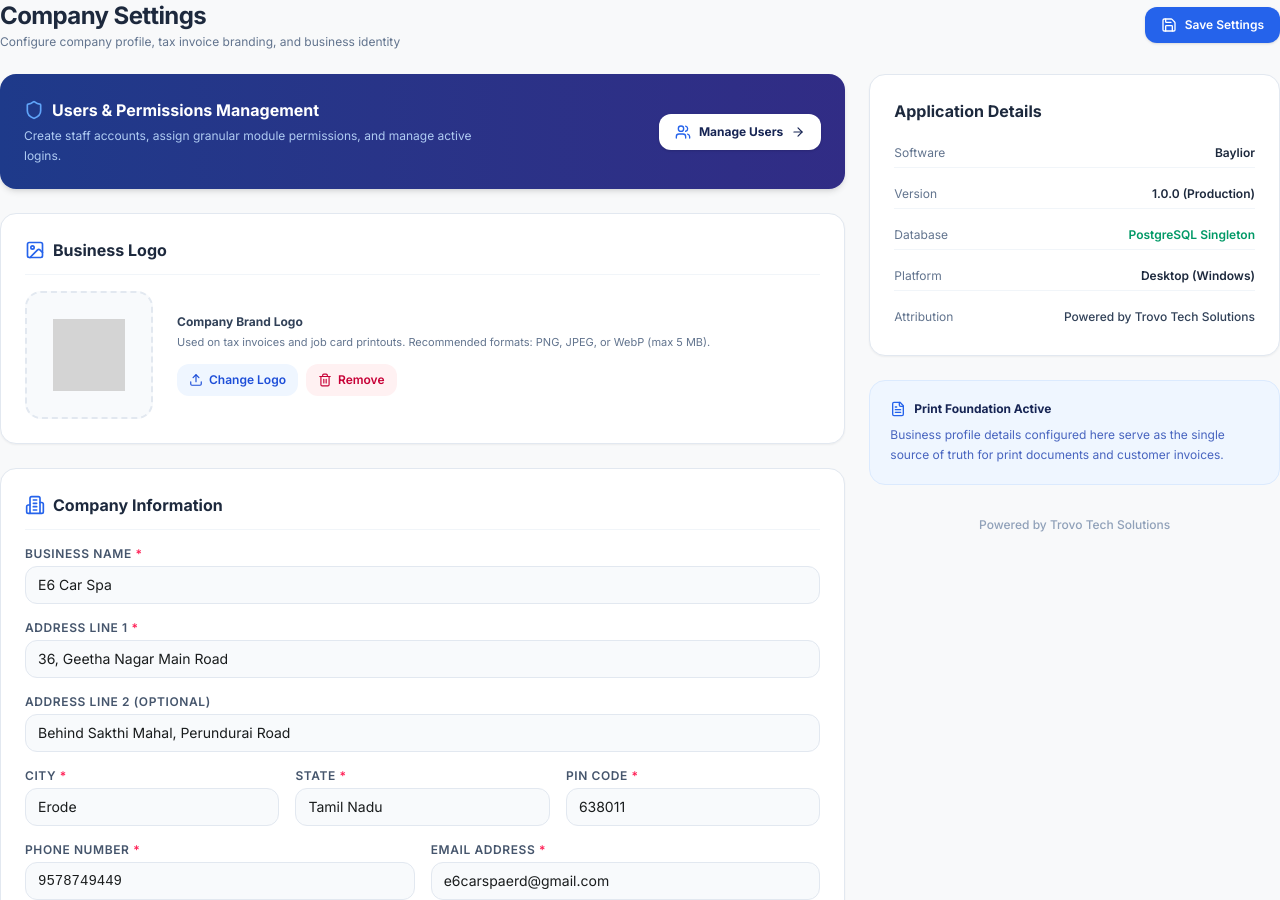
Test case: SettingsPage Component & Business Profile Boundary › submits updated company profile successfully and shows confirmation
The width and height of the screenshot is (1280, 900).
Expected: the field showing "E6 Car Spa" below "Business Name" is shown, [25,566,820,604]
Replace the text in the field showing "Erode" below "City" with "Coimbatore" at (152, 807), box [25,788,279,826]
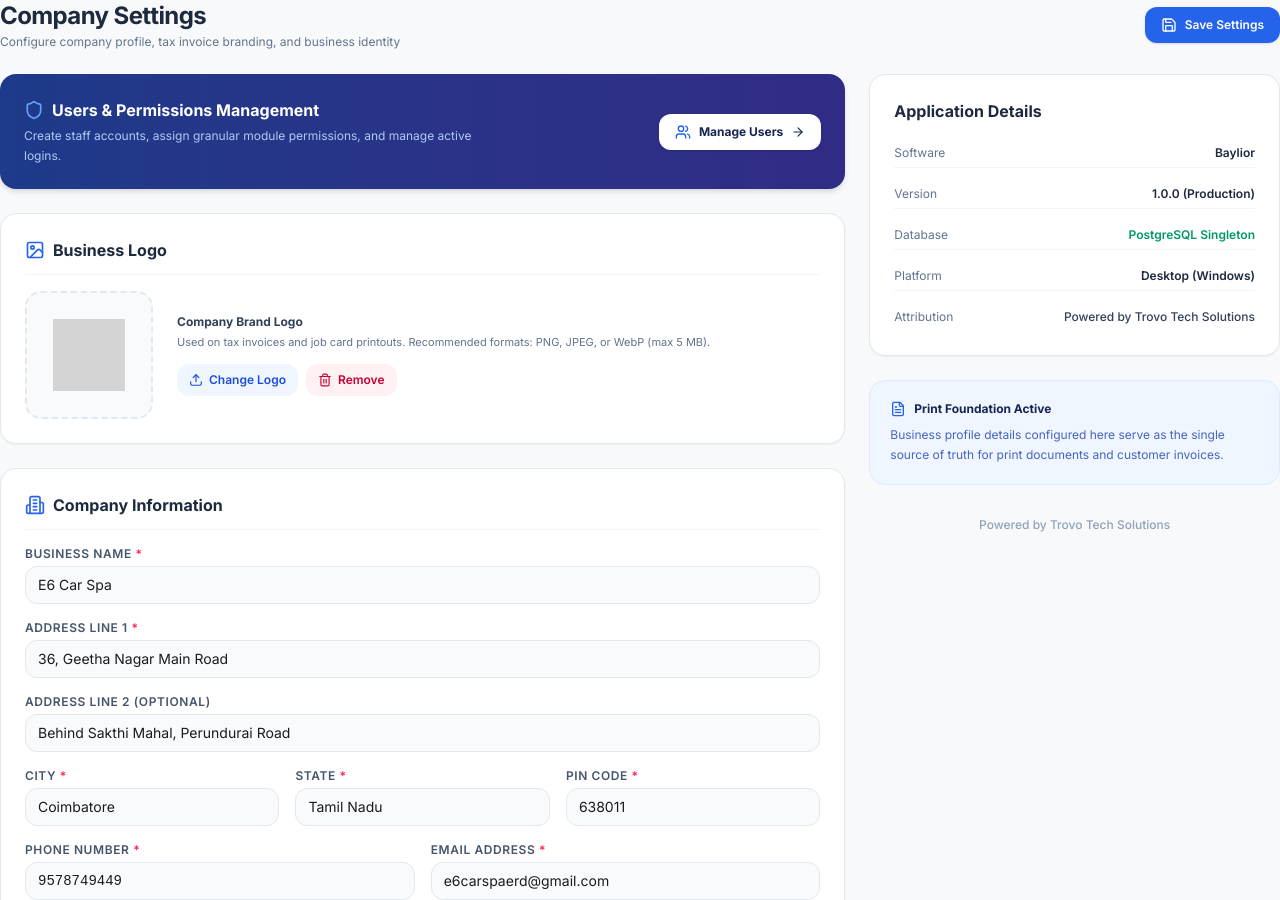
Click the button "Save Settings" at (1212, 25), box [1145,7,1279,43]
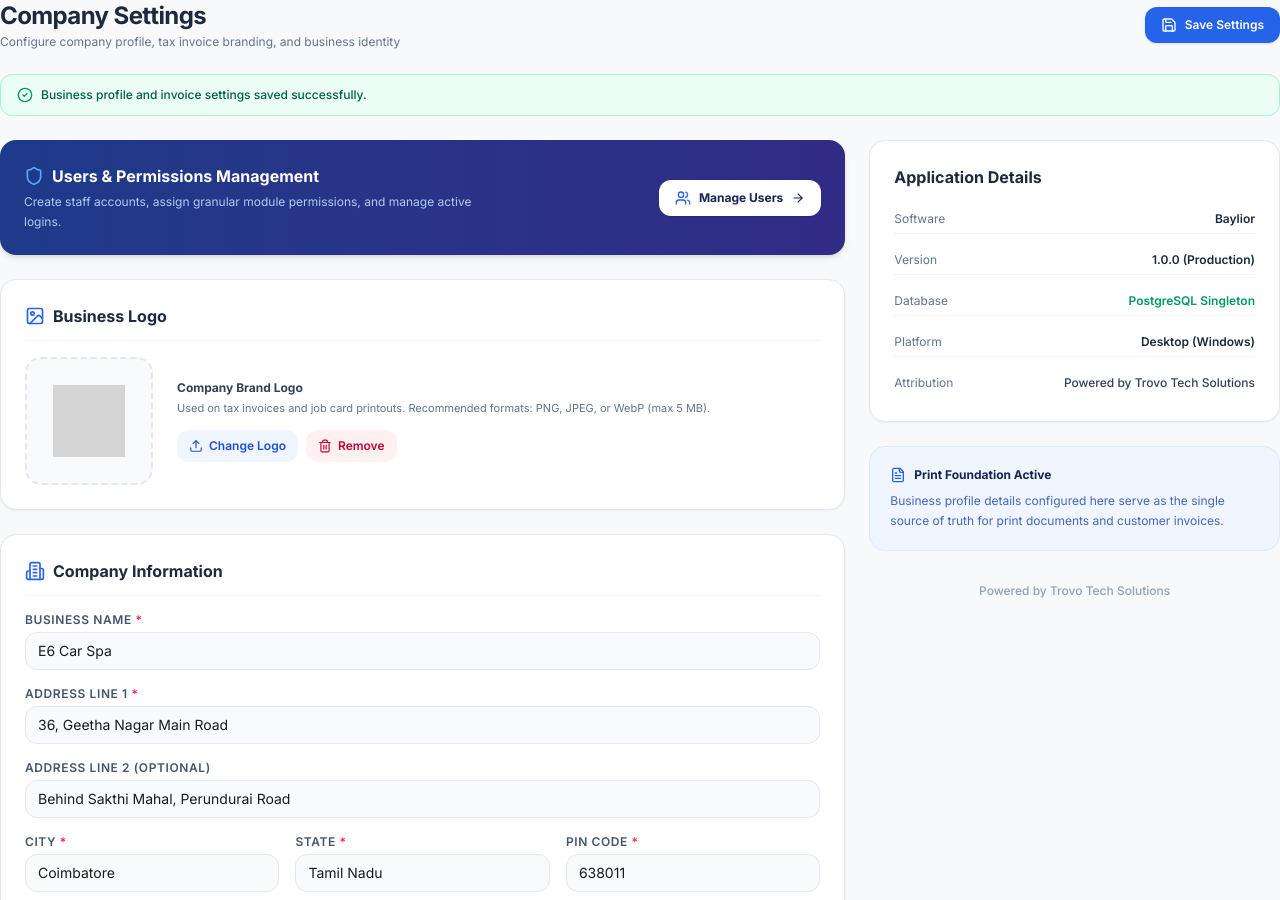
Expected: the text "Business profile and invoice settings saved successfully." is shown, [0,74,1279,116]
